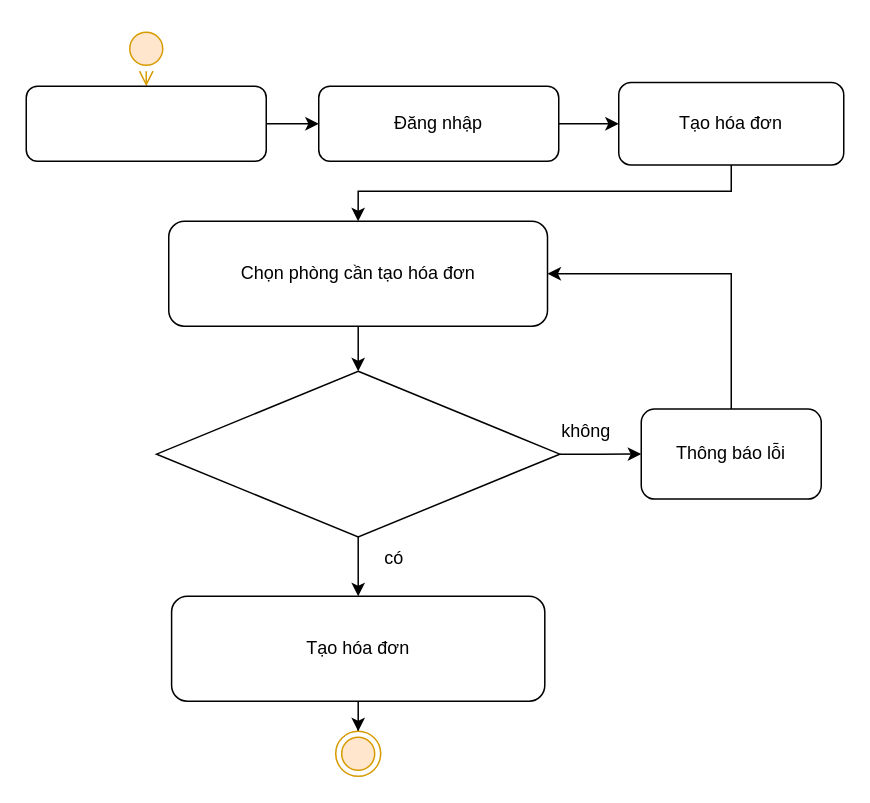
Some shapes in this 870 by 803 pixel diagram are drawn without their labels. Here are the shapes that lost their labels. From the top down, the centre of each, then its label:
(145,123): Mở phần mềm
(357,453): Kiểm tra tình trạng có khách thuê hay không
